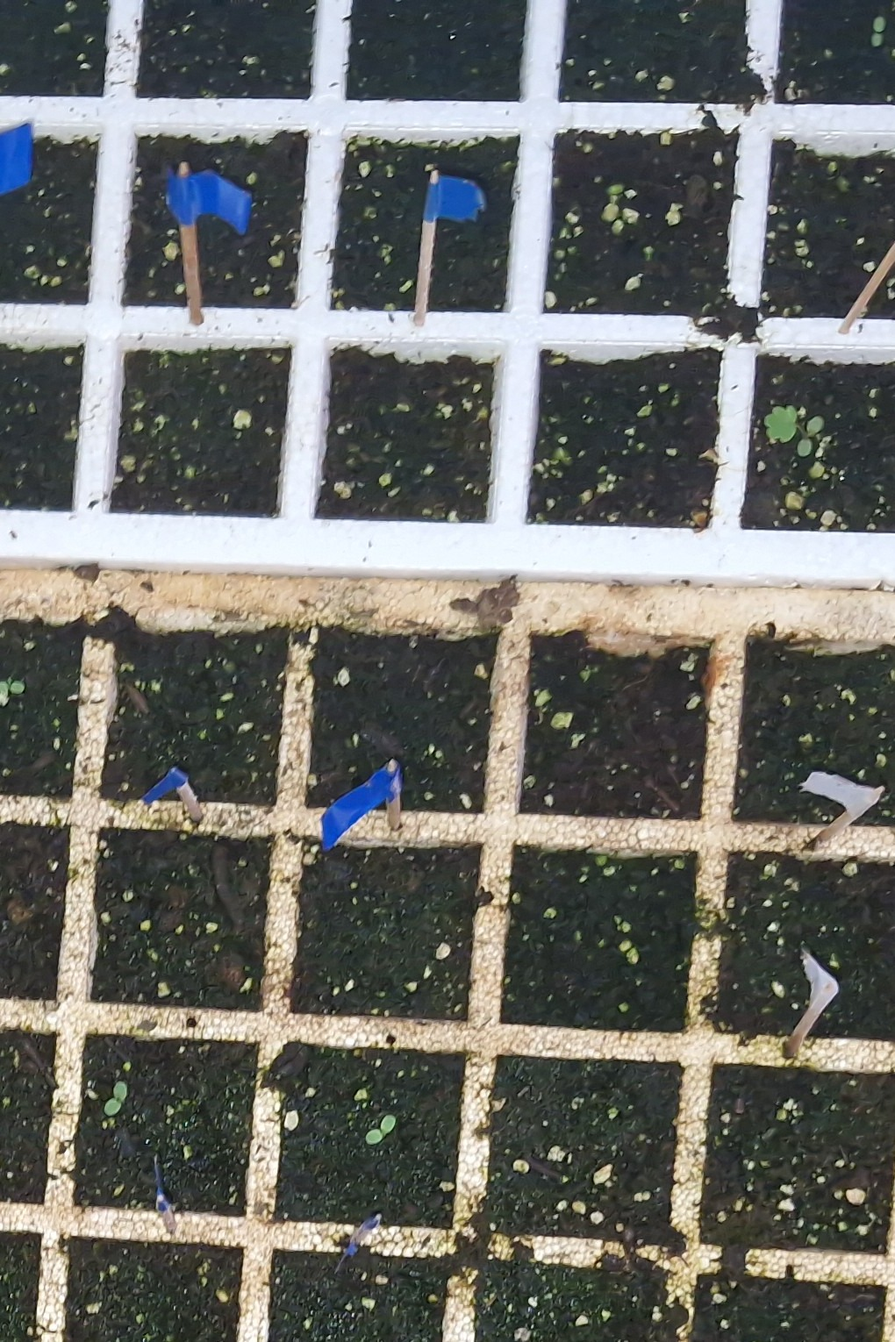Folha: (380, 1115, 396, 1133), (105, 1098, 121, 1115), (366, 1129, 383, 1144), (114, 1082, 126, 1100), (10, 682, 24, 694)
Germinacao: (365, 1115, 395, 1144), (104, 1081, 127, 1115), (0, 677, 25, 694)
